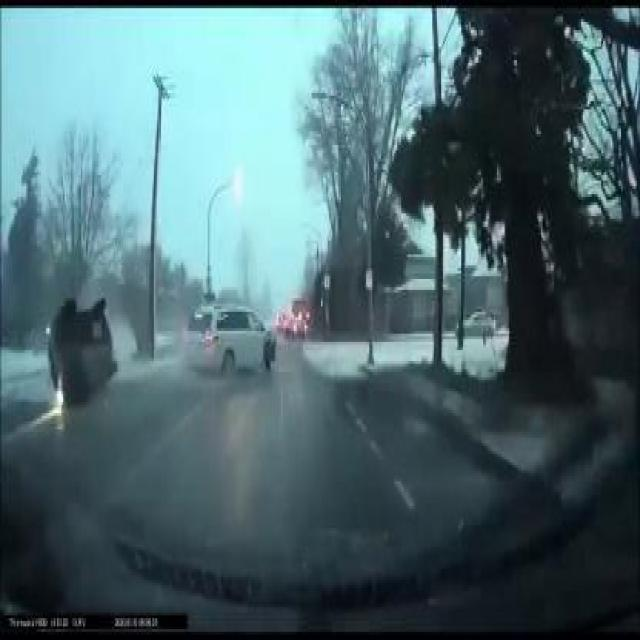accident: (46, 284, 122, 408)
